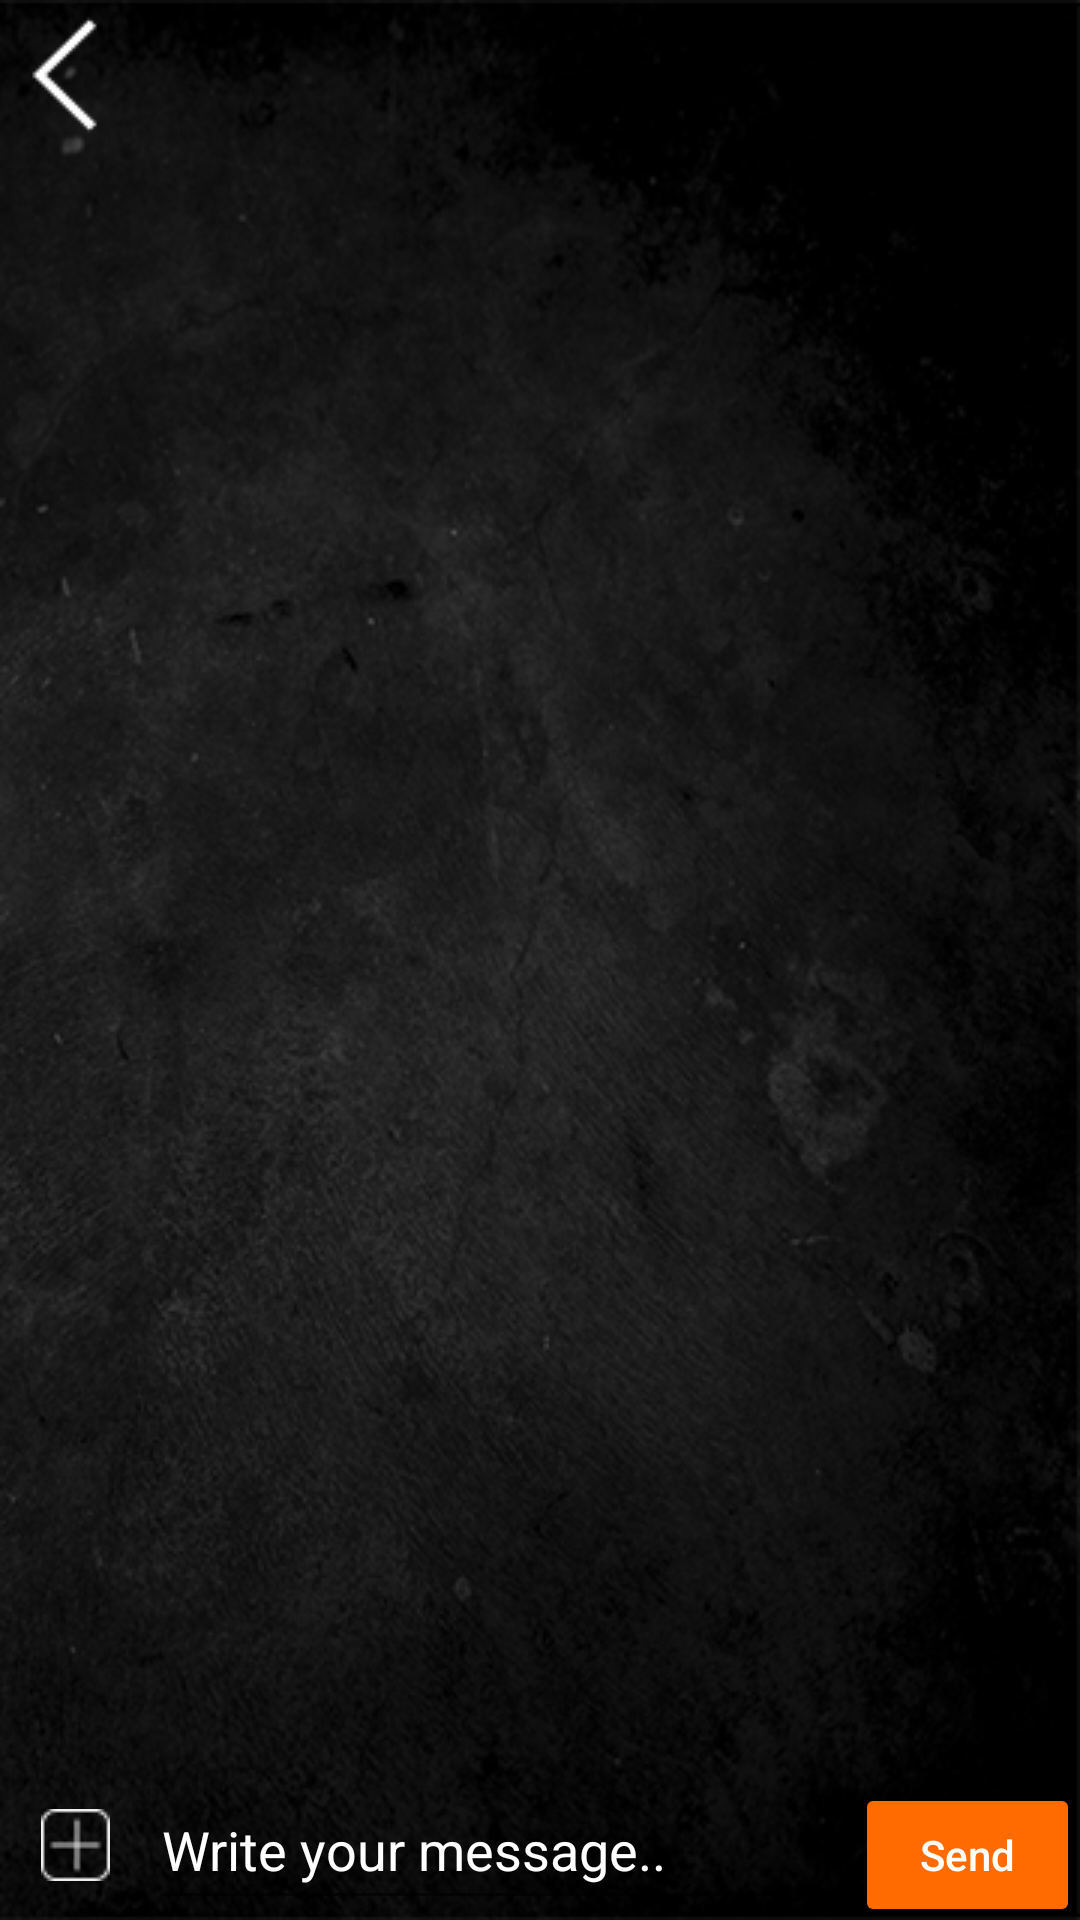

Icon bounding boxes for this 1080 × 1920 phone screenshot, format bbox(x1, y1, x2, y2):
addicon: bbox(41, 1809, 110, 1881)
backbutton: bbox(32, 18, 97, 133)
